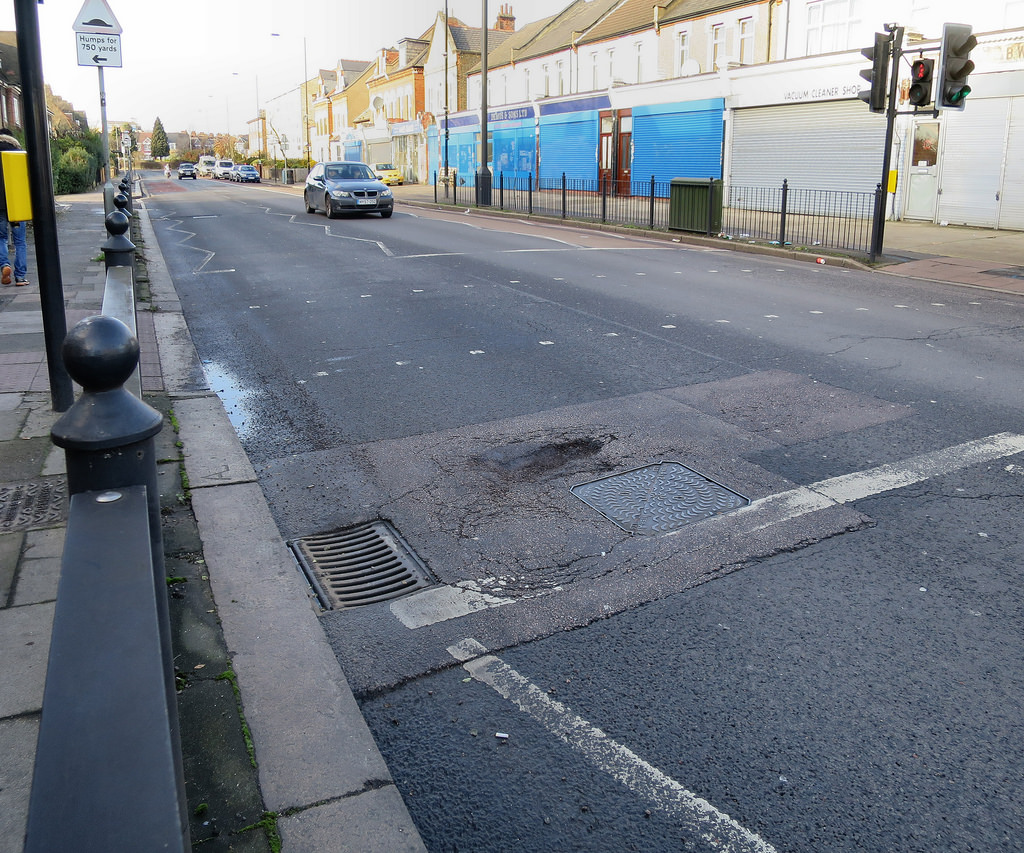pothole: (398, 455, 693, 588)
